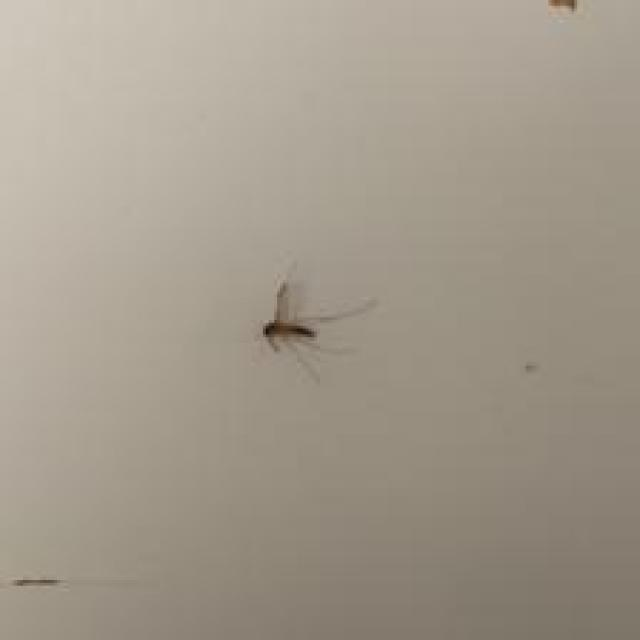Culex: (257, 267, 377, 384)
